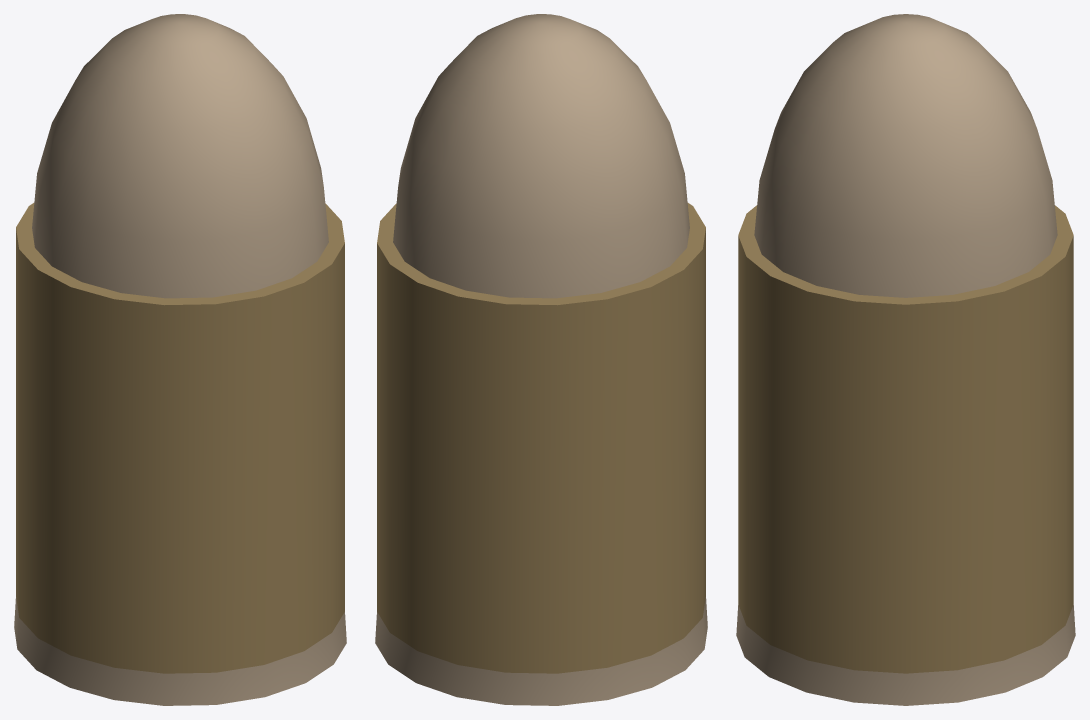
Rendered from Bullet_Pickup.fbx.
3 renders of one model, left to right at view 1: azimuth 30°, elevation 25°; view 2: azimuth 150°, elevation 25°; view 3: azimuth 270°, elevation 25°, orthographic.
Visible parts, largest first — view 1: BulletPickup; view 2: BulletPickup; view 3: BulletPickup.
Boxes of the visible parts, box(x1,y1,x2,y2) form: BulletPickup: box(14, 14, 346, 705); BulletPickup: box(375, 14, 707, 705); BulletPickup: box(736, 14, 1075, 705).
Bounding box in the file's own units: 1.09 × 2.22 × 1.12.
